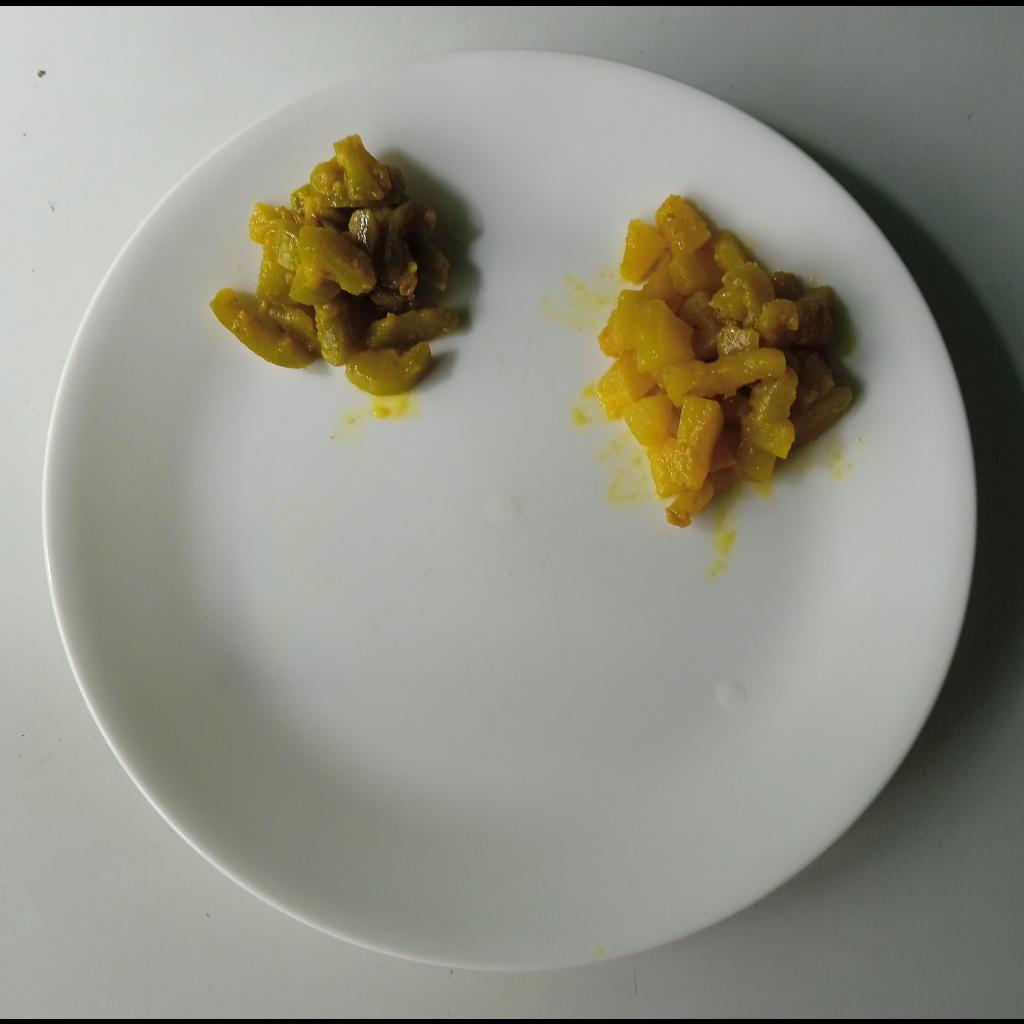dundol: (209, 138, 464, 394)
lau: (591, 189, 857, 530)
